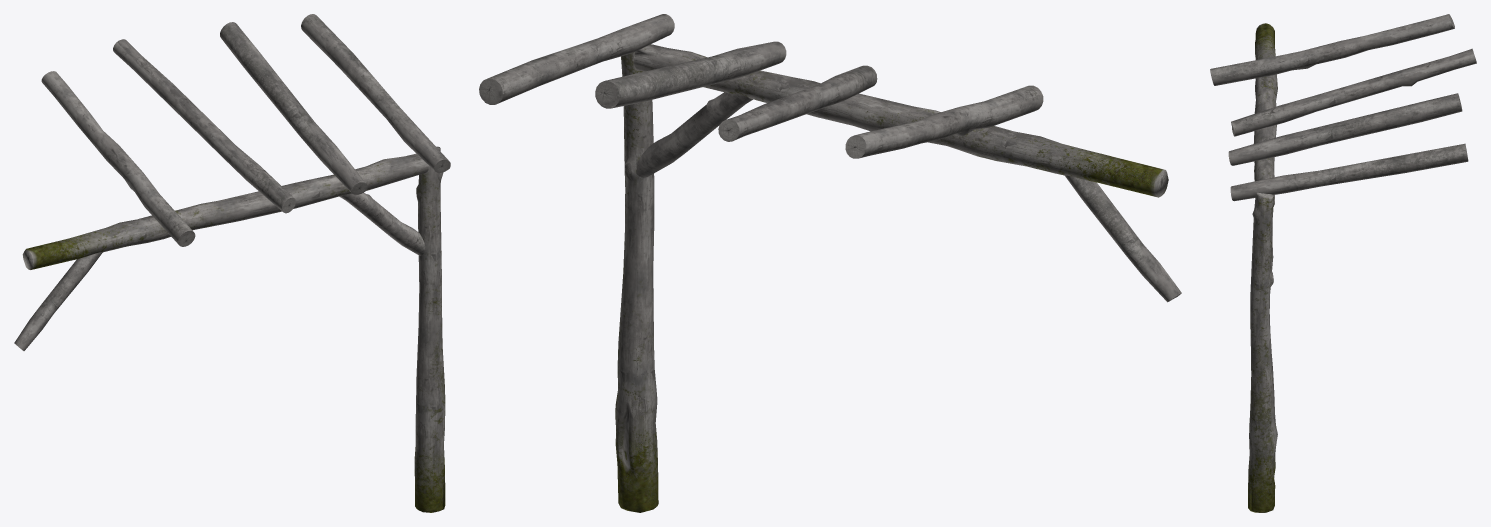
The model's file is SM_SupportModule_4.fbx.
3 views of the same model, side by side, from view 1: azimuth 30°, elevation 25°; view 2: azimuth 150°, elevation 25°; view 3: azimuth 270°, elevation 25° (orthographic). The views are drawn at different scales.
Parts seen in each view (by area): view 1: SM_SupportModule_4_LOD0; view 2: SM_SupportModule_4_LOD0; view 3: SM_SupportModule_4_LOD0.
Part boxes in pixels (x1=…): SM_SupportModule_4_LOD0: x1=14, y1=14, x2=450, y2=512; SM_SupportModule_4_LOD0: x1=479, y1=14, x2=1181, y2=512; SM_SupportModule_4_LOD0: x1=1210, y1=14, x2=1476, y2=512.
Bounding box in the file's own units: 313 × 191 × 298.
